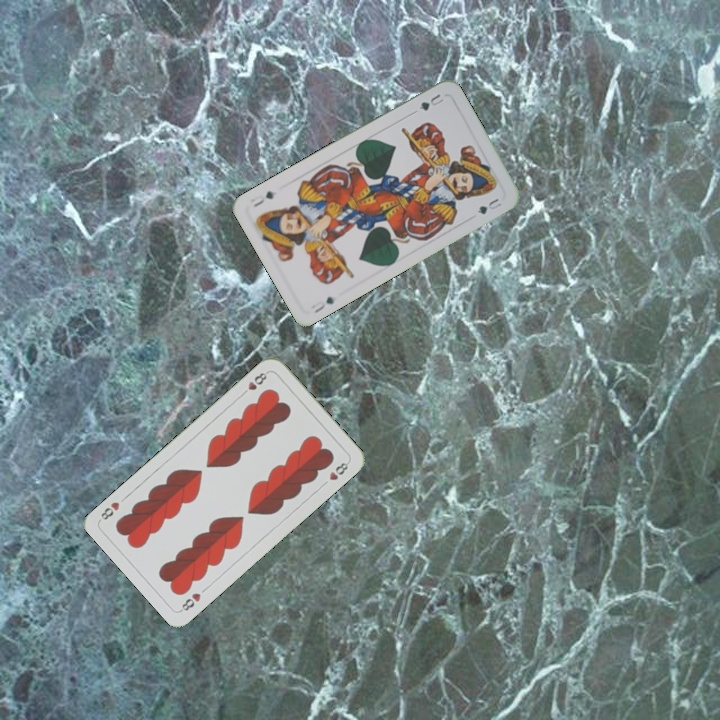GU: (415, 90, 446, 114), (310, 292, 338, 316)
H8: (237, 368, 271, 398), (176, 589, 203, 614)
